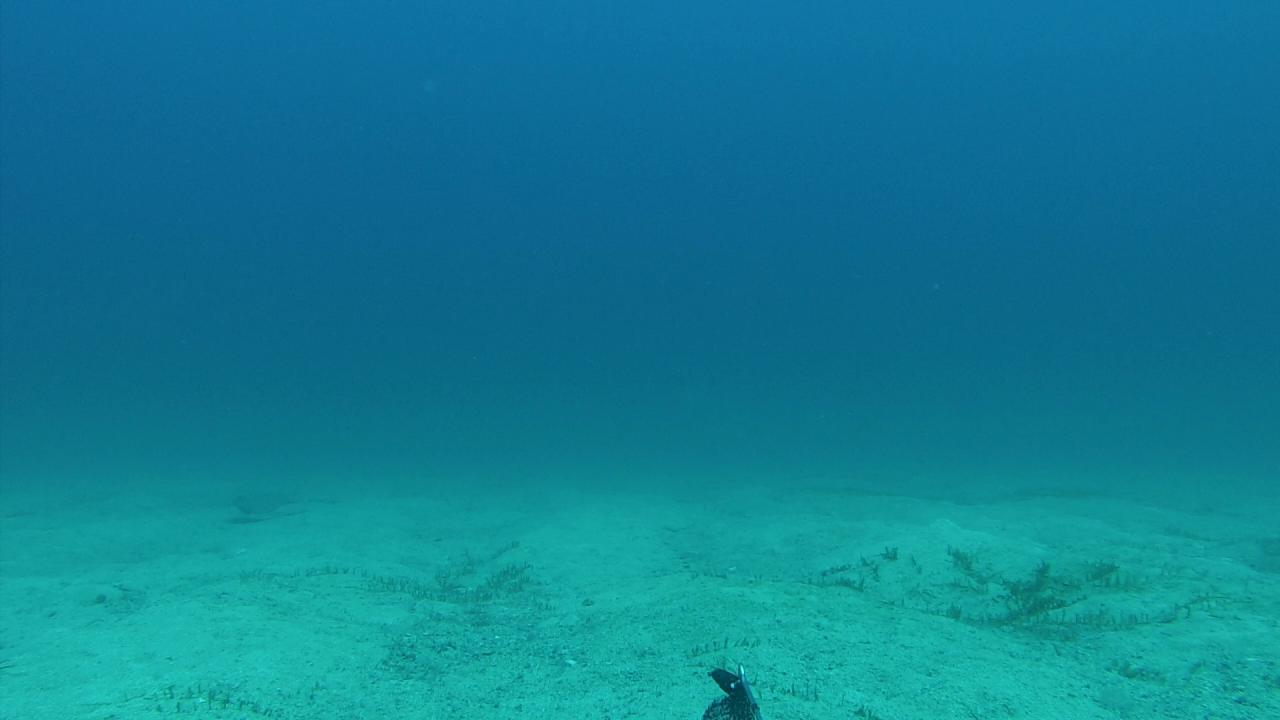dasyatis: (232, 492, 344, 513)
